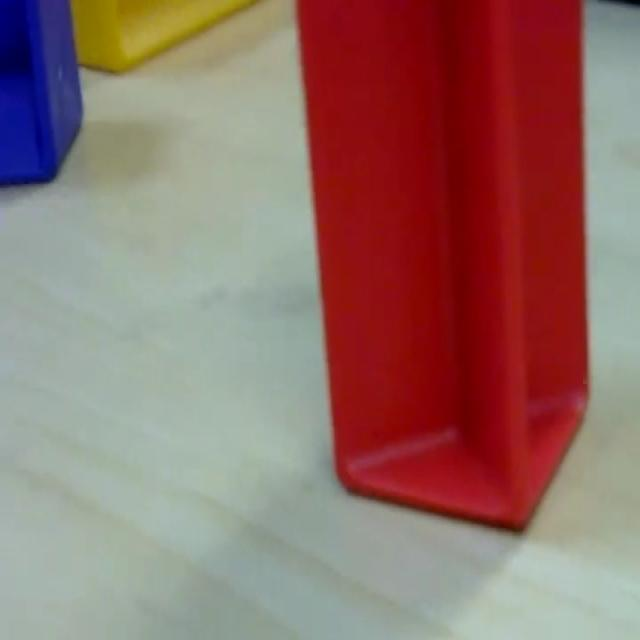blue_block: (0, 0, 83, 186)
red_block: (293, 0, 591, 533)
yellow_block: (68, 0, 259, 73)
